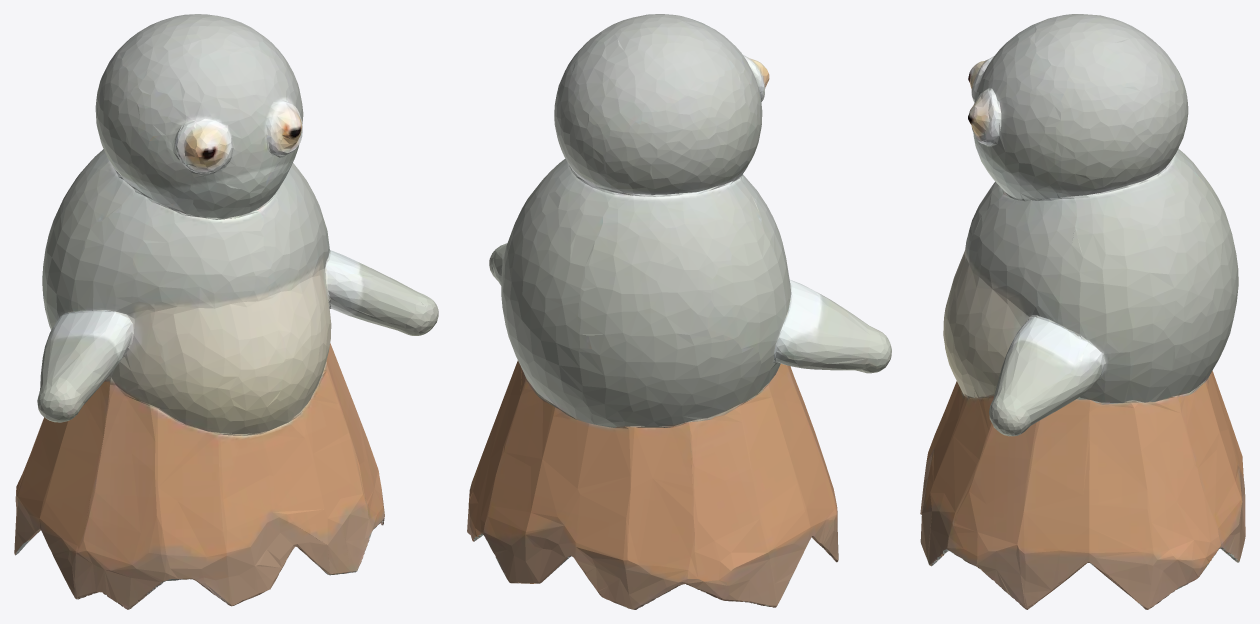
The model's file is creature-115.lod.glb.
3 renders of one model, left to right at view 1: azimuth 30°, elevation 25°; view 2: azimuth 150°, elevation 25°; view 3: azimuth 270°, elevation 25°, orthographic.
Parts seen in each view (by area): view 1: tmpx0w3cstn.ply; view 2: tmpx0w3cstn.ply; view 3: tmpx0w3cstn.ply.
Boxes of the visible parts, x1,y1,x2,y2 form: tmpx0w3cstn.ply: (14,14,438,609); tmpx0w3cstn.ply: (467,14,891,609); tmpx0w3cstn.ply: (920,14,1245,609).
Bounding box in the file's own units: 1.51 × 1.89 × 1.09.
Materials: 1 (1 with a texture image).
